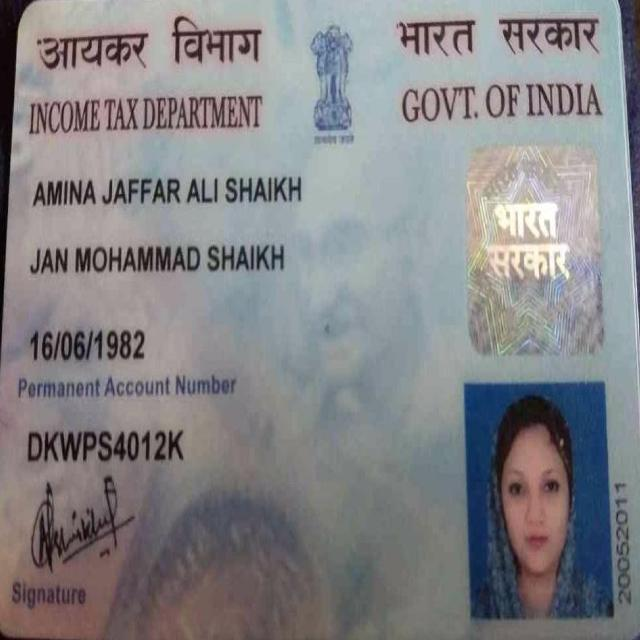pan_card: (10, 0, 640, 625)
